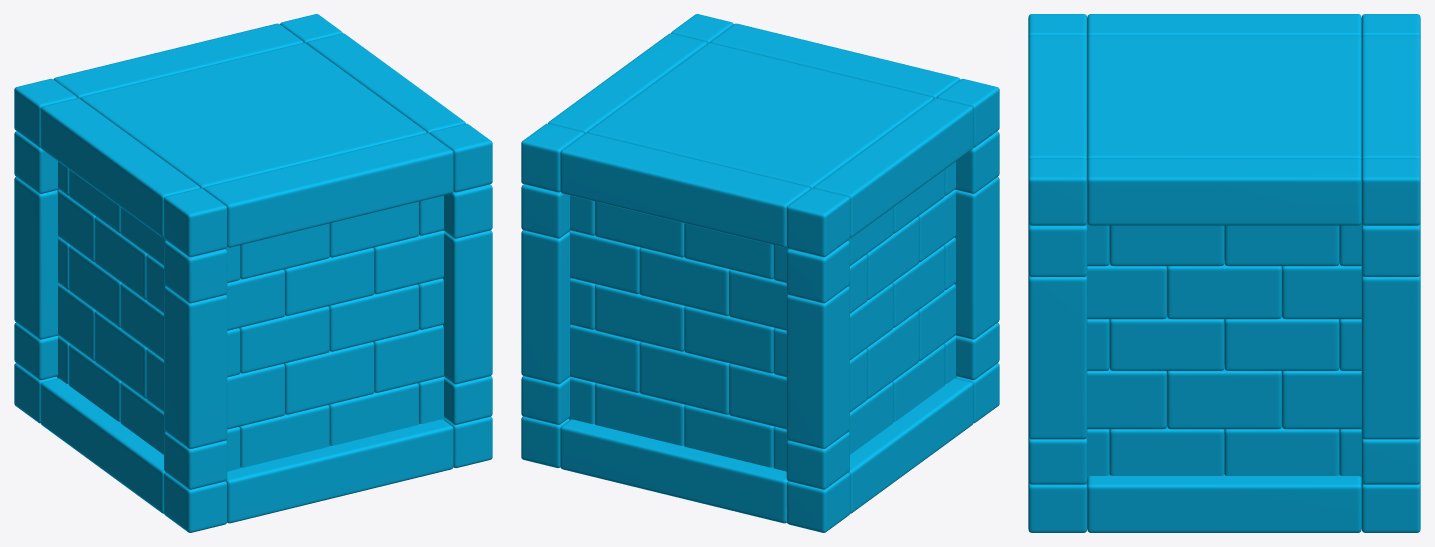
File: SM_Stone_Body_01.fbx
3 views of the same model, side by side, from view 1: azimuth 30°, elevation 25°; view 2: azimuth 150°, elevation 25°; view 3: azimuth 270°, elevation 25° (orthographic). The views are drawn at different scales.
Parts seen in each view (by area): view 1: SM_Stone_Body_01; view 2: SM_Stone_Body_01; view 3: SM_Stone_Body_01.
Part boxes in pixels (x1=…): SM_Stone_Body_01: x1=14, y1=14, x2=492, y2=532; SM_Stone_Body_01: x1=521, y1=14, x2=999, y2=532; SM_Stone_Body_01: x1=1028, y1=14, x2=1420, y2=532.
Size of the model in its own units: 2.5 by 2.5 by 2.5.
